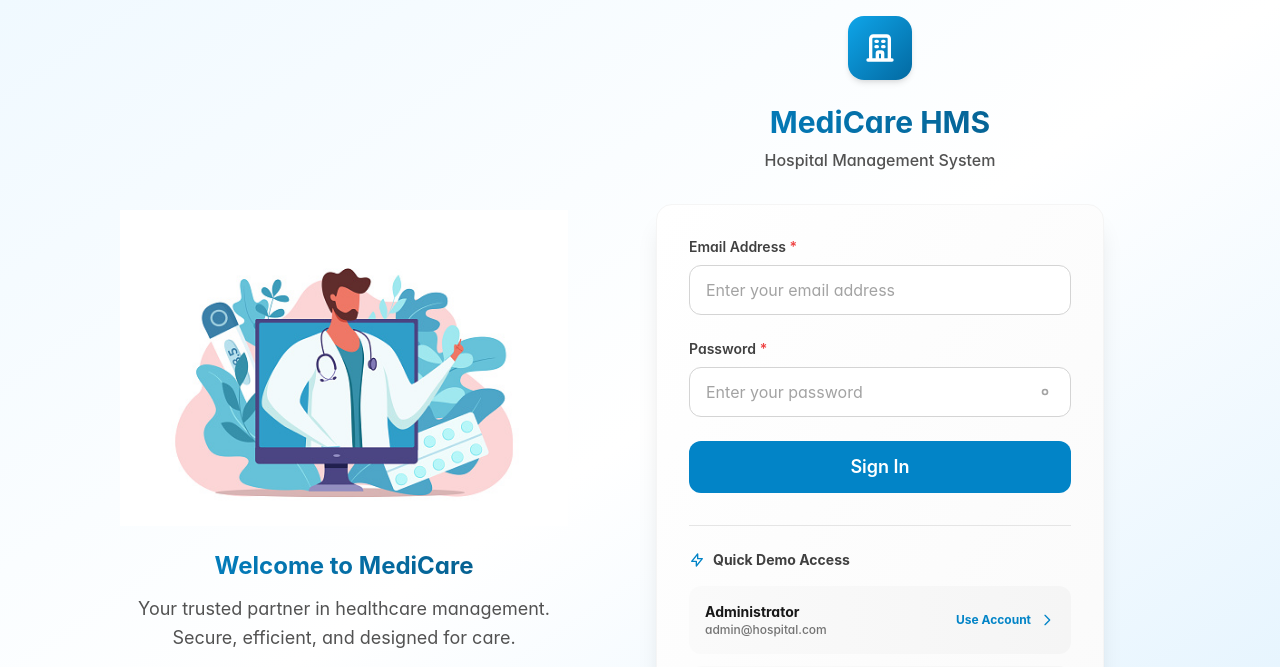
Test case: MediCare Hospital Management System Frontend Tests › clicking demo account button pre-populates login inputs
What coordinates should you click on to do the following:
click the button "Administrator"
I would click on:
 (752, 612)
Its box is left=689, top=586, right=1071, bottom=654.
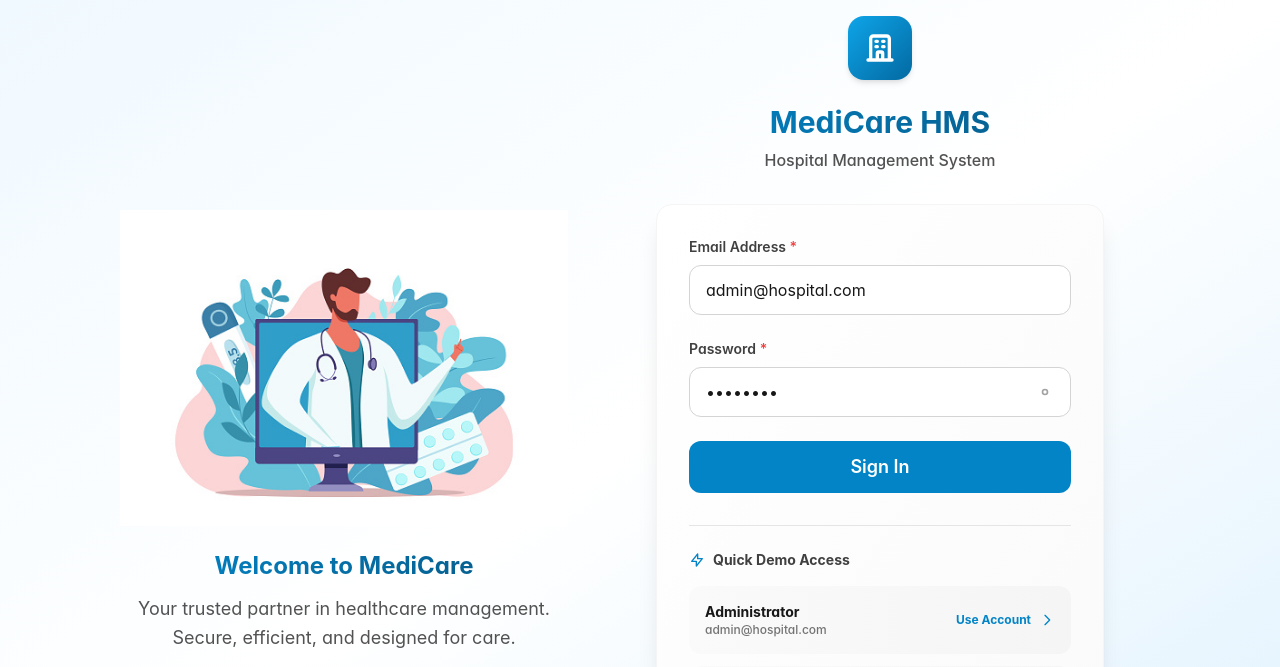
Now the field with placeholder "Enter your email address" holds "admin@hospital.com", box left=689, top=265, right=1071, bottom=315
